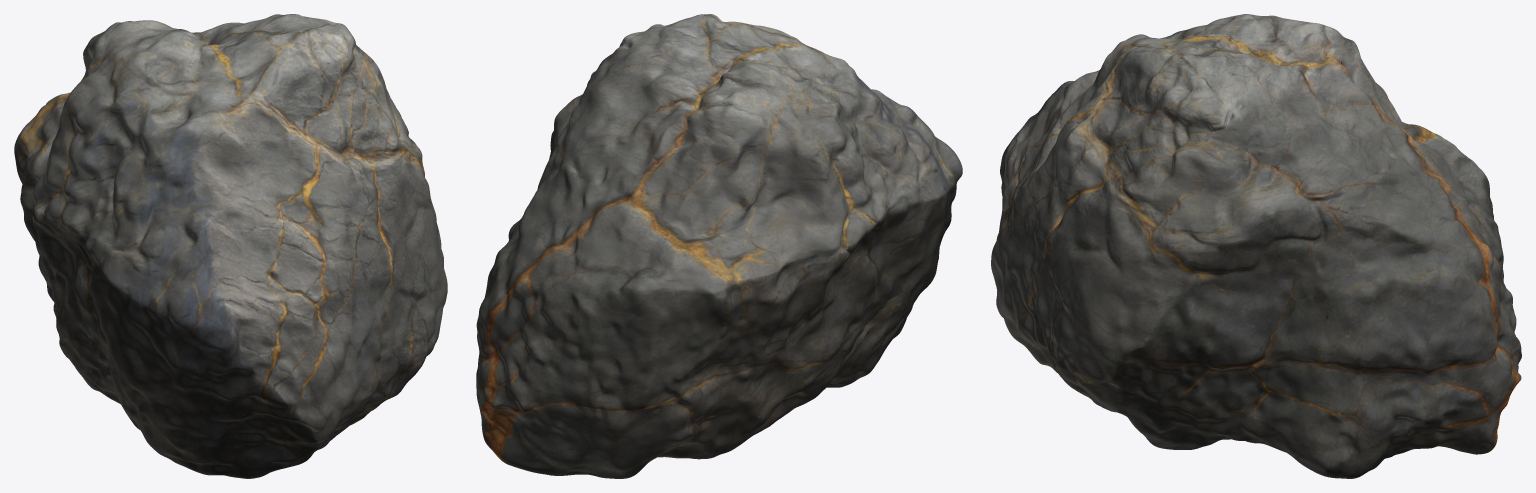
Rendered from fels_original.glb.
3 renders of one model, left to right at view 1: azimuth 30°, elevation 25°; view 2: azimuth 150°, elevation 25°; view 3: azimuth 270°, elevation 25°, orthographic. The views are drawn at different scales.
Bounding box in the file's own units: 1.47 × 1.58 × 1.99.
1 material, 1 textured.
